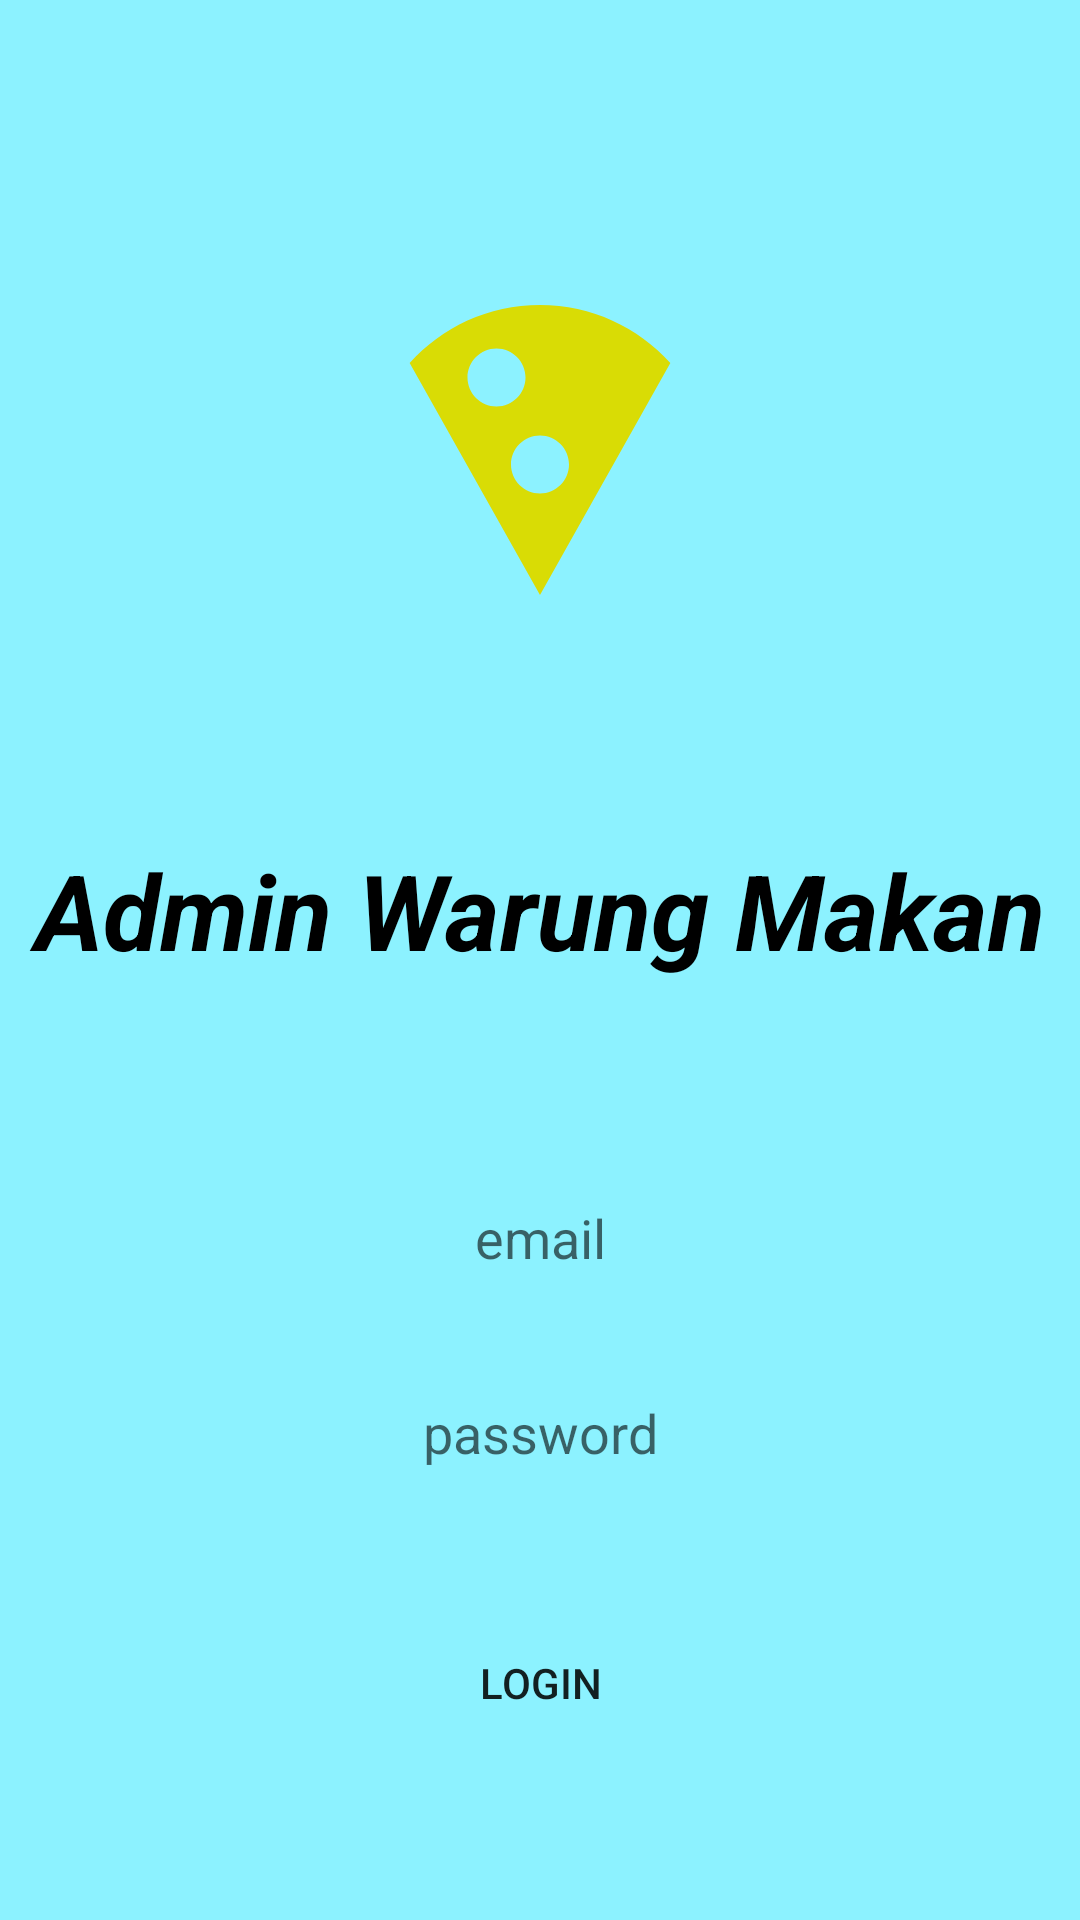

Screen size 1080x1920. Icon name, then its box in pixels as (x1, y1, x2, y2):
pizza: (410, 305, 670, 595)
